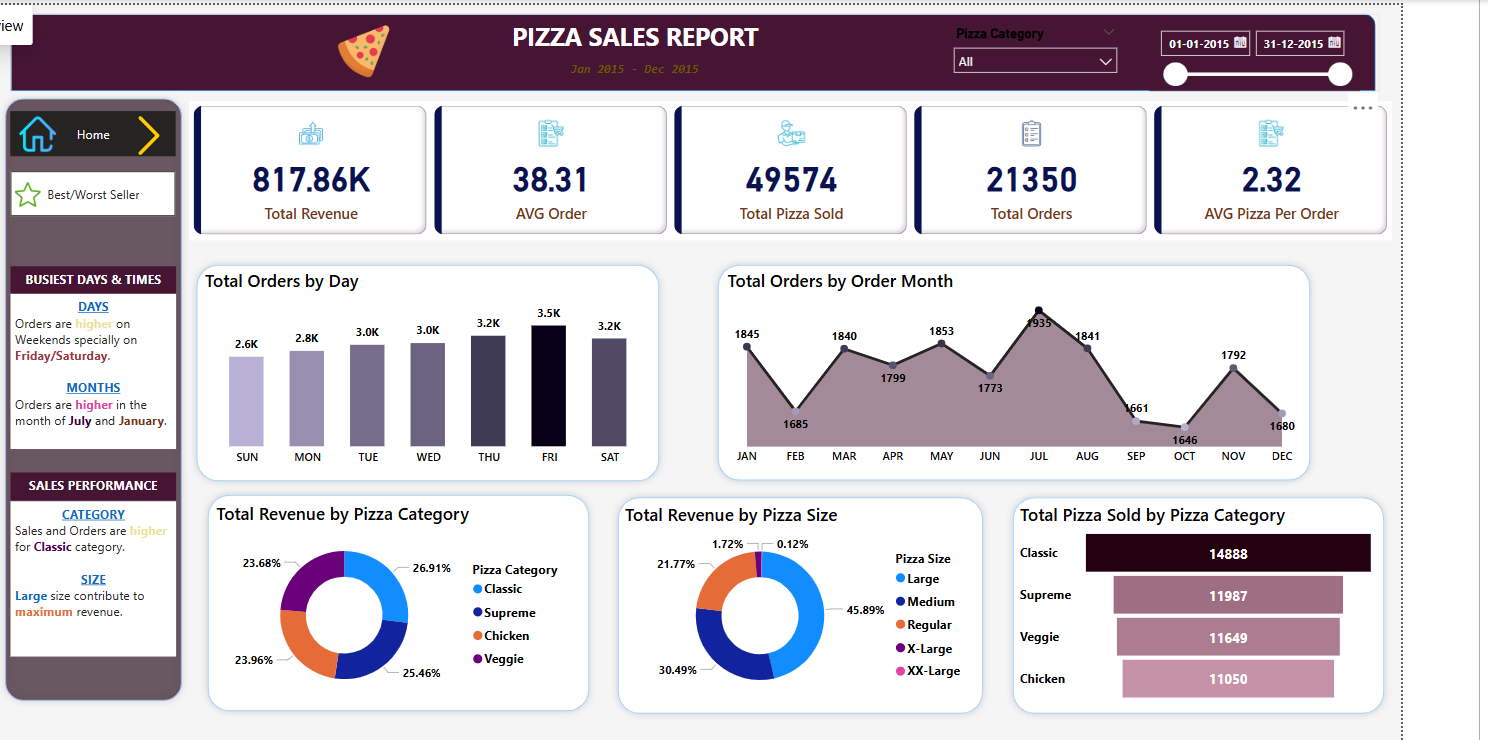

The page's visual inventory and layout, read from the dashboard file:
{"tool":"powerbi","page":{"name":"Home","canvas":[1525,800],"ordinal":0},"visuals":[{"type":"cardVisual","fields":{"Data":["pizza_sales.Total_Sales","pizza_sales.AVG_Order","pizza_sales.Total_Pizza_Sold","pizza_sales.Total_Orders","pizza_sales.AVG_Pizza_Per_Order"]},"box":[207.9,104.6,1307.1,150.8],"z":0},{"type":"shape","box":[13.6,9.5,1487.8,84.2],"z":1000},{"type":"textbox","box":[501.5,11.1,382.4,45.7],"z":2000},{"type":"textbox","box":[574.9,54,234.1,33.2],"z":3000},{"type":"image","box":[345,16.6,105.3,67.9],"z":4000},{"type":"shape","box":[207.9,274.5,519,251.4],"z":5000},{"type":"columnChart","fields":{"Y":["pizza_sales.Total_Orders"],"Category":["pizza_sales.Day"]},"box":[220.3,286.8,496,223],"z":6000},{"type":"shape","box":[774.4,274.6,660.4,250.6],"z":7000},{"type":"areaChart","fields":{"Category":["pizza_sales.Order Month"],"Y":["pizza_sales.Total_Orders"]},"box":[788.5,287.2,633.6,222.5],"z":8000},{"type":"shape","box":[220.1,524.5,430.7,251.4],"z":9000},{"type":"shape","box":[665.8,527.2,413,251.4],"z":10000},{"type":"shape","box":[1095.1,527.2,419.8,251.4],"z":11000},{"type":"donutChart","fields":{"Category":["pizza_sales.pizza_category"],"Y":["pizza_sales.Total_Sales"]},"box":[232.7,538.9,403.1,223],"z":12000},{"type":"donutChart","fields":{"Y":["pizza_sales.Total_Sales"],"Category":["pizza_sales.pizza_size"]},"box":[676.1,540.3,386.5,221.7],"z":13000},{"type":"shape","box":[0,94.2,207.8,670.5],"z":14000},{"type":"funnel","fields":{"Category":["pizza_sales.pizza_category"],"Y":["pizza_sales.Total_Pizza_Sold"]},"box":[1105.5,540.3,396.2,221.7],"z":15000},{"type":"textbox","box":[13.9,284,180.1,30.5],"z":16000},{"type":"textbox","box":[13.9,314.5,180.1,169],"z":17000},{"type":"textbox","box":[13.9,508.4,180.1,30.5],"z":18000},{"type":"textbox","box":[13.9,538.9,180.1,169],"z":19000},{"type":"slicer","fields":{"Values":["pizza_sales.order_date"]},"box":[1251,18,228.6,76.2],"z":20000},{"type":"slicer","fields":{"Values":["pizza_sales.pizza_category"]},"box":[1027.9,18,198.1,70.7],"z":21000},{"type":"pageNavigator","box":[13.9,115,180.1,49.9],"z":21001},{"type":"pageNavigator","box":[13.9,180.1,180.1,49.9],"z":21002},{"type":"image","box":[13.9,184.3,37.4,42.9],"z":21003},{"type":"image","box":[13.9,115,59.6,49.9],"z":21004},{"type":"image","box":[134.4,115,59.6,52.6],"z":21005}]}

Visuals, with their boxes on the page's 1525x800 design canvas (x1, y1, x2, y2). These are canvas units, not pixel positions in the 1488x740 screenshot, which may show the page scaled, cropped or inside an application window:
cardVisual - pizza_sales.Total_Sales x pizza_sales.AVG_Order: {"x1": 208, "y1": 105, "x2": 1515, "y2": 255}
shape: {"x1": 14, "y1": 10, "x2": 1501, "y2": 94}
textbox: {"x1": 502, "y1": 11, "x2": 884, "y2": 57}
textbox: {"x1": 575, "y1": 54, "x2": 809, "y2": 87}
image: {"x1": 345, "y1": 17, "x2": 450, "y2": 84}
shape: {"x1": 208, "y1": 274, "x2": 727, "y2": 526}
columnChart - pizza_sales.Total_Orders x pizza_sales.Day: {"x1": 220, "y1": 287, "x2": 716, "y2": 510}
shape: {"x1": 774, "y1": 275, "x2": 1435, "y2": 525}
areaChart - pizza_sales.Order Month x pizza_sales.Total_Orders: {"x1": 788, "y1": 287, "x2": 1422, "y2": 510}
shape: {"x1": 220, "y1": 524, "x2": 651, "y2": 776}
shape: {"x1": 666, "y1": 527, "x2": 1079, "y2": 779}
shape: {"x1": 1095, "y1": 527, "x2": 1515, "y2": 779}
donutChart - pizza_sales.pizza_category x pizza_sales.Total_Sales: {"x1": 233, "y1": 539, "x2": 636, "y2": 762}
donutChart - pizza_sales.Total_Sales x pizza_sales.pizza_size: {"x1": 676, "y1": 540, "x2": 1063, "y2": 762}
shape: {"x1": 0, "y1": 94, "x2": 208, "y2": 765}
funnel - pizza_sales.pizza_category x pizza_sales.Total_Pizza_Sold: {"x1": 1106, "y1": 540, "x2": 1502, "y2": 762}
textbox: {"x1": 14, "y1": 284, "x2": 194, "y2": 314}
textbox: {"x1": 14, "y1": 314, "x2": 194, "y2": 484}
textbox: {"x1": 14, "y1": 508, "x2": 194, "y2": 539}
textbox: {"x1": 14, "y1": 539, "x2": 194, "y2": 708}
slicer - pizza_sales.order_date: {"x1": 1251, "y1": 18, "x2": 1480, "y2": 94}
slicer - pizza_sales.pizza_category: {"x1": 1028, "y1": 18, "x2": 1226, "y2": 89}
pageNavigator: {"x1": 14, "y1": 115, "x2": 194, "y2": 165}
pageNavigator: {"x1": 14, "y1": 180, "x2": 194, "y2": 230}
image: {"x1": 14, "y1": 184, "x2": 51, "y2": 227}
image: {"x1": 14, "y1": 115, "x2": 74, "y2": 165}
image: {"x1": 134, "y1": 115, "x2": 194, "y2": 168}
